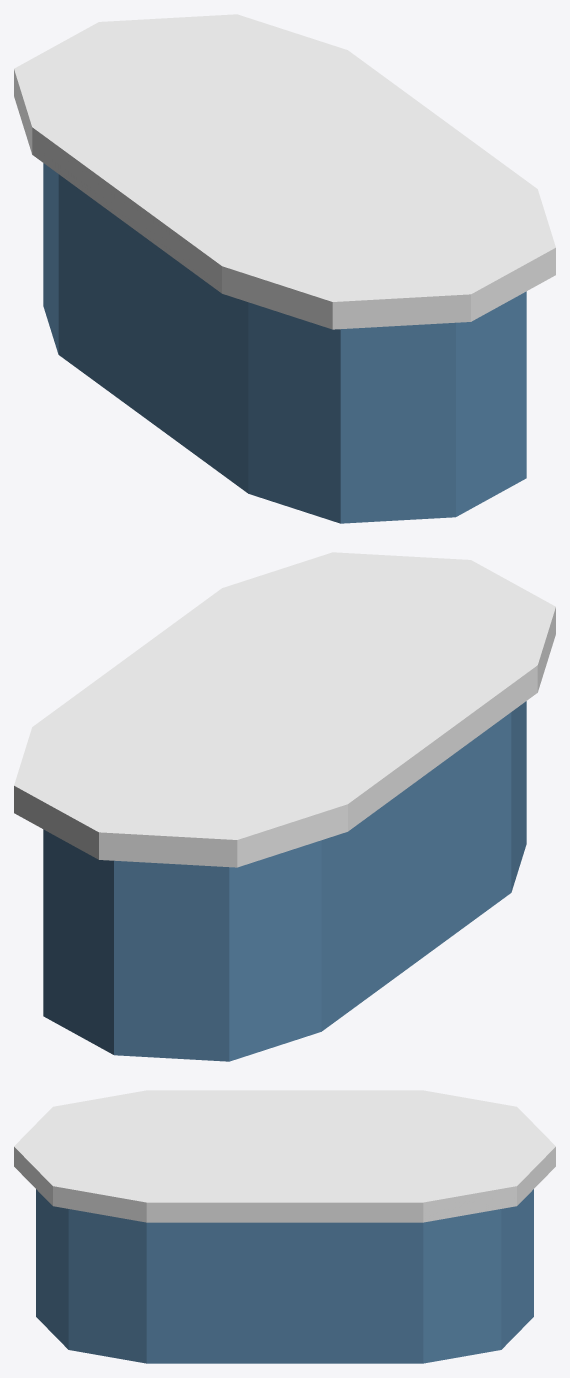
Rendered from roofprop.fbx.
The picture shows the model from 3 angles, top to bottom: view 1: azimuth 30°, elevation 25°; view 2: azimuth 150°, elevation 25°; view 3: azimuth 270°, elevation 25°; orthographic projection. The views are drawn at different scales.
Parts seen in each view (by area): view 1: a2012/800/roofprop; view 2: a2012/800/roofprop; view 3: a2012/800/roofprop.
Part boxes in pixels (left/top/right/bottom): a2012/800/roofprop: left=14, top=14, right=555, bottom=523; a2012/800/roofprop: left=14, top=552, right=555, bottom=1061; a2012/800/roofprop: left=14, top=1090, right=555, bottom=1363.
Size of the model in its own units: 4.8 by 3.4 by 9.8.
